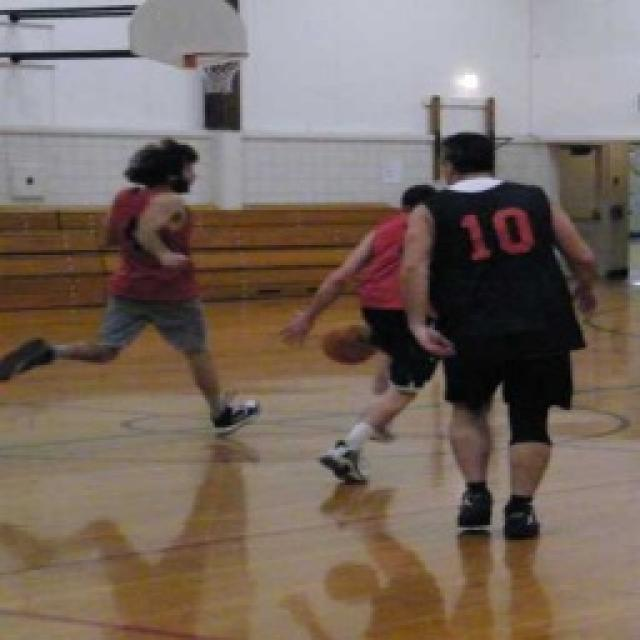basketball: (319, 314, 376, 371)
